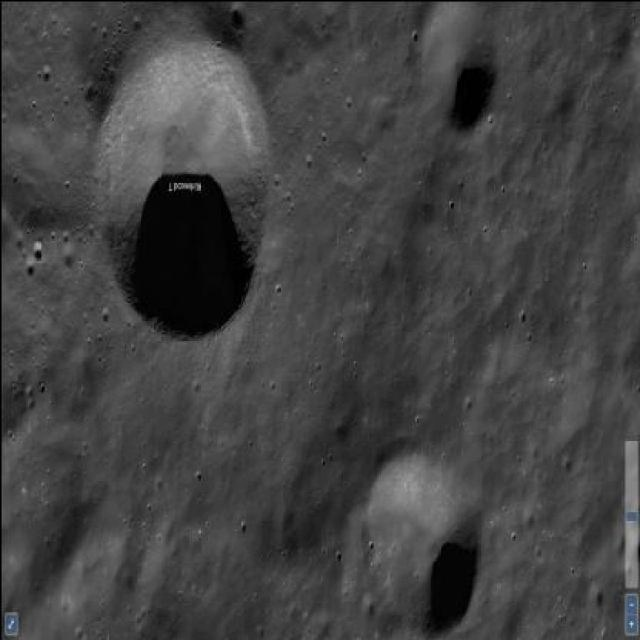crater: (92, 28, 265, 343), (364, 448, 476, 634), (416, 1, 496, 130)
